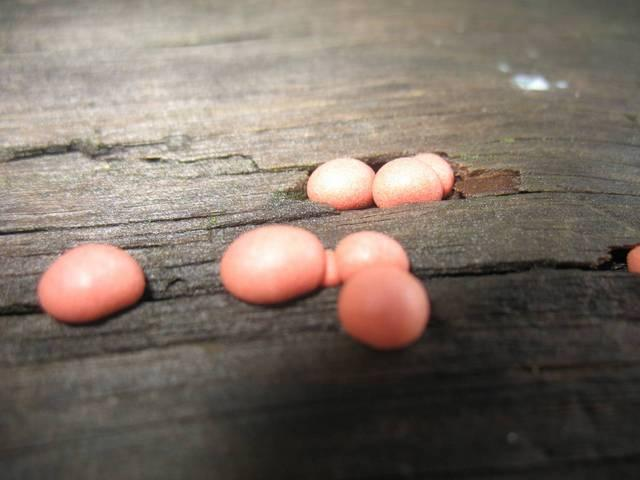Non-edible Mushroom: (36, 241, 146, 324), (218, 222, 326, 305), (336, 265, 430, 350), (324, 229, 411, 287), (371, 155, 443, 208), (305, 156, 374, 210), (413, 151, 455, 197), (625, 241, 639, 275)
